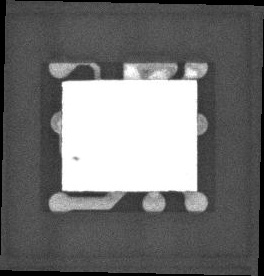DIE_INK: (68, 162, 77, 168)
